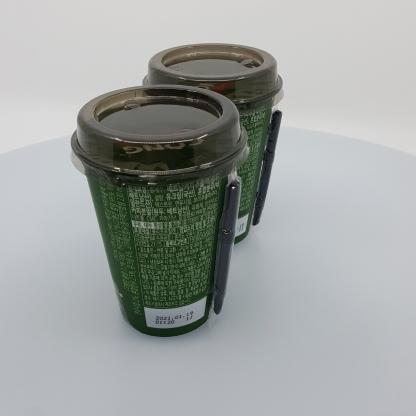---------: (70, 84, 249, 337)
